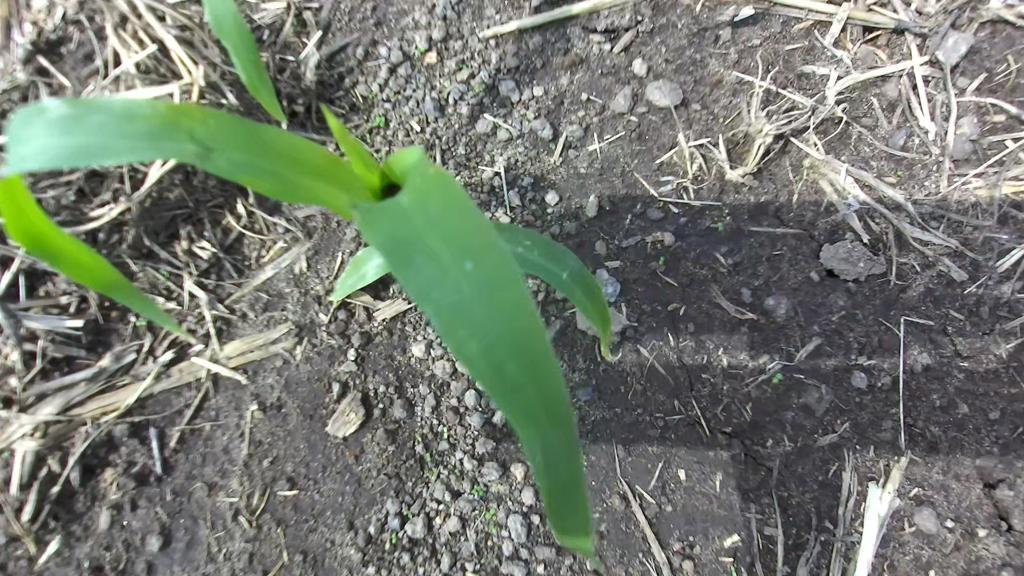BroWeed: (373, 143, 390, 159), (770, 371, 785, 386), (483, 506, 496, 521), (370, 114, 383, 129), (475, 485, 487, 499), (158, 267, 171, 279), (367, 88, 378, 101), (488, 520, 498, 533), (134, 318, 148, 327), (470, 481, 479, 495), (709, 222, 723, 231), (441, 426, 450, 439), (364, 131, 373, 144), (390, 531, 398, 544), (729, 564, 737, 576), (415, 46, 425, 55), (478, 82, 487, 92), (453, 467, 462, 477), (425, 452, 432, 464), (431, 467, 437, 481), (380, 115, 385, 128), (455, 62, 463, 70), (896, 171, 905, 177)
